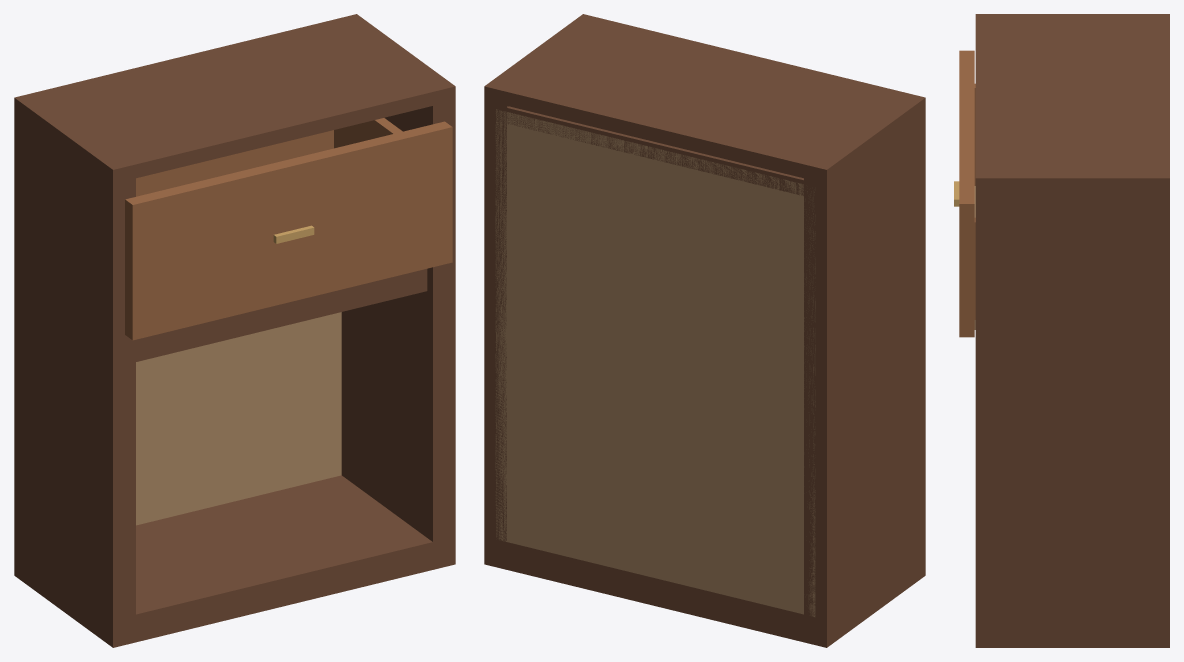
The picture shows the model from 3 angles, left to right: view 1: azimuth 30°, elevation 25°; view 2: azimuth 150°, elevation 25°; view 3: azimuth 270°, elevation 25°; orthographic projection.
Visible parts, largest first — view 1: cabinet-side-left, drawer-front, cabinet-top, cabinet-bottom, cabinet-inner-back, cabinet-side-right, cabinet-drawer-divider, drawer-back, drawer-right; view 2: cabinet-inner-back, cabinet-side-left, cabinet-top, cabinet-bottom, cabinet-side-right, cabinet-back-rail; view 3: cabinet-side-right, cabinet-top, drawer-front, cabinet-bottom.
Boxes of the visible parts, x1=… form: cabinet-side-left: x1=14, y1=110, x2=135, y2=627; drawer-front: x1=125, y1=121, x2=452, y2=340; cabinet-top: x1=14, y1=14, x2=455, y2=183; cabinet-bottom: x1=14, y1=475, x2=455, y2=647; cabinet-inner-back: x1=136, y1=312, x2=341, y2=525; cabinet-side-right: x1=341, y1=98, x2=455, y2=549; cabinet-drawer-divider: x1=136, y1=269, x2=427, y2=361; drawer-back: x1=136, y1=130, x2=333, y2=196; drawer-right: x1=334, y1=118, x2=402, y2=148; cabinet-inner-back: x1=495, y1=109, x2=815, y2=616; cabinet-side-left: x1=804, y1=110, x2=925, y2=625; cabinet-top: x1=484, y1=14, x2=925, y2=183; cabinet-bottom: x1=484, y1=538, x2=925, y2=647; cabinet-side-right: x1=484, y1=98, x2=508, y2=549; cabinet-back-rail: x1=495, y1=105, x2=815, y2=198; cabinet-side-right: x1=975, y1=190, x2=1169, y2=628; cabinet-top: x1=975, y1=14, x2=1169, y2=191; drawer-front: x1=959, y1=50, x2=974, y2=337; cabinet-bottom: x1=975, y1=621, x2=1169, y2=647.
Size of the model in its own units: 0.9 by 1.2 by 0.5.
